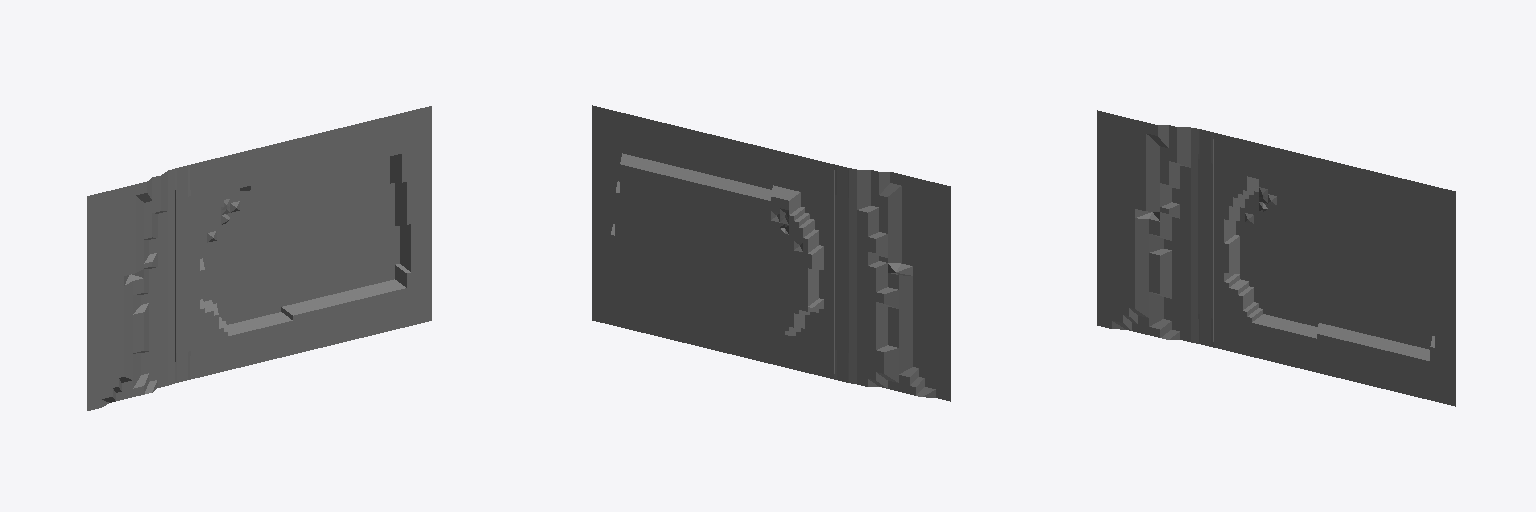
File: field.obj
The picture shows the model from 3 angles: view 1: azimuth 30°, elevation 25°; view 2: azimuth 150°, elevation 25°; view 3: azimuth 330°, elevation 25°; orthographic projection.
Parts seen in each view (by area): view 1: Plane; view 2: Plane; view 3: Plane.
Boxes of the visible parts, <box> form: Plane: <box>87,106,431,410</box>; Plane: <box>592,105,950,401</box>; Plane: <box>1097,110,1455,406</box>.
Bounding box in the file's own units: 1393 × 814 × 92.52.